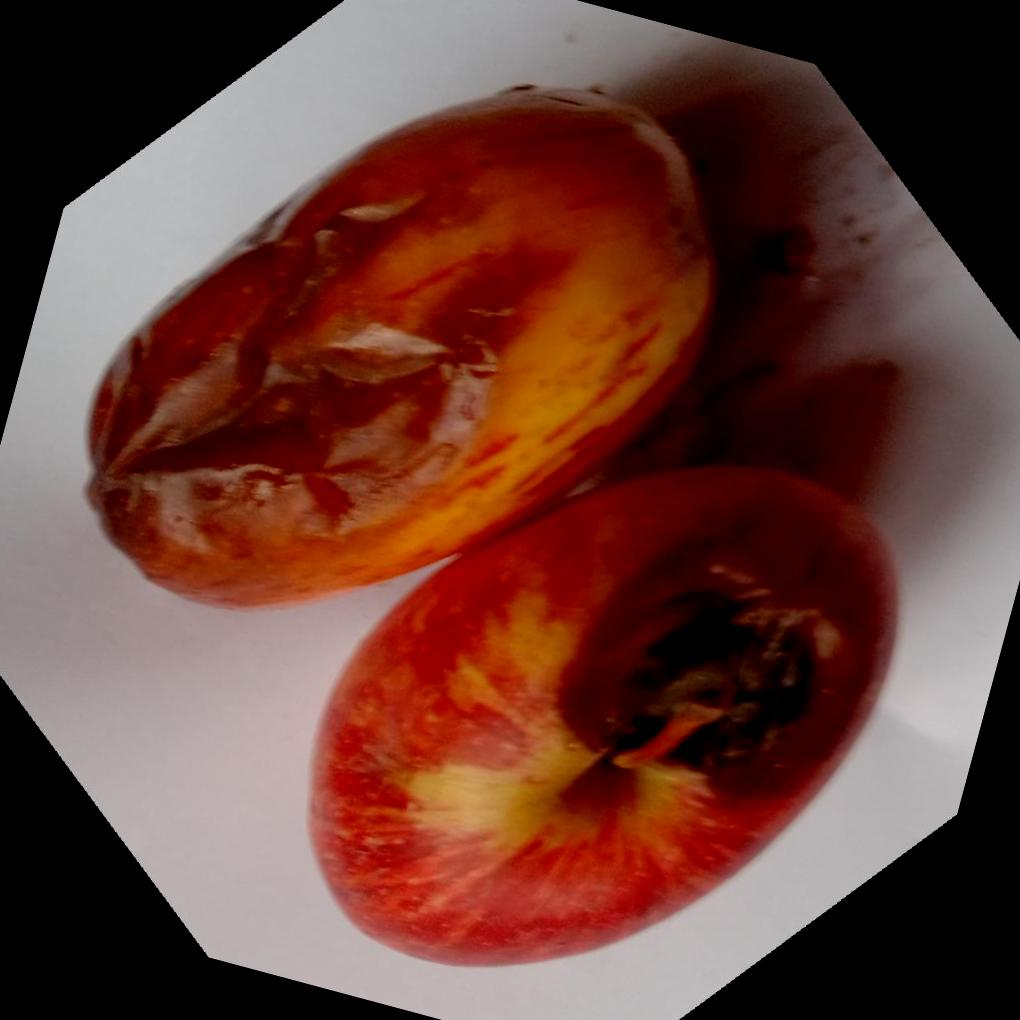FreshOrange: (82, 87, 901, 972)
